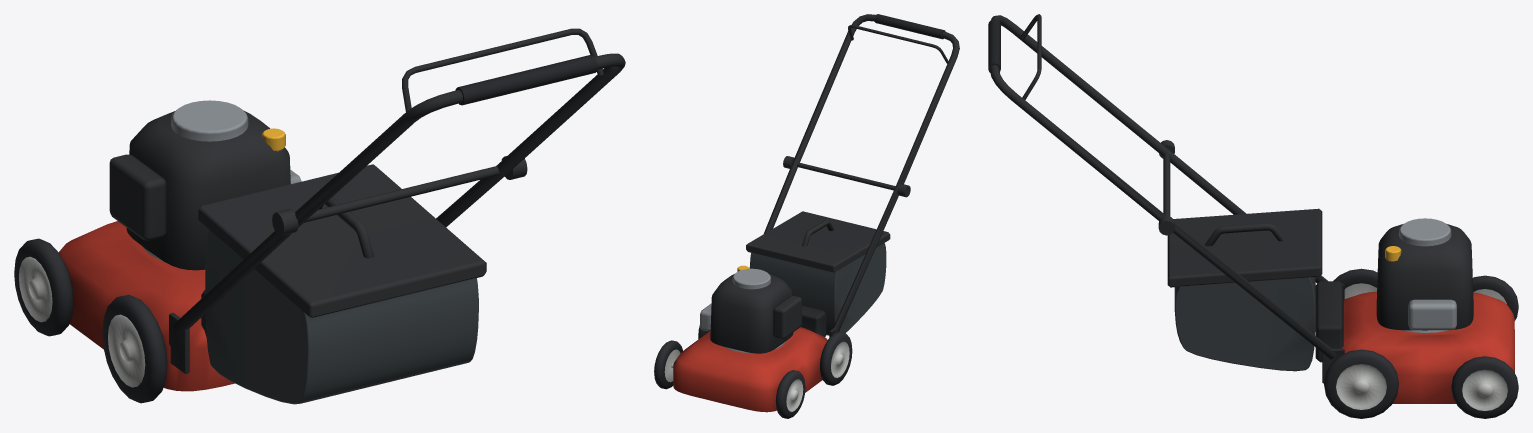
Rendered from lawnMower.glb.
The picture shows the model from 3 angles, left to right: view 1: azimuth 30°, elevation 25°; view 2: azimuth 150°, elevation 25°; view 3: azimuth 270°, elevation 25°; orthographic projection. The views are drawn at different scales.
Parts seen in each view (by area): view 1: lawnMower; view 2: lawnMower; view 3: lawnMower.
Part boxes in pixels (left/top/right/bottom): lawnMower: left=14, top=28, right=625, bottom=404; lawnMower: left=654, top=14, right=959, bottom=418; lawnMower: left=988, top=14, right=1518, bottom=418.
Bounding box in the file's own units: 0.553 × 0.992 × 1.42.
